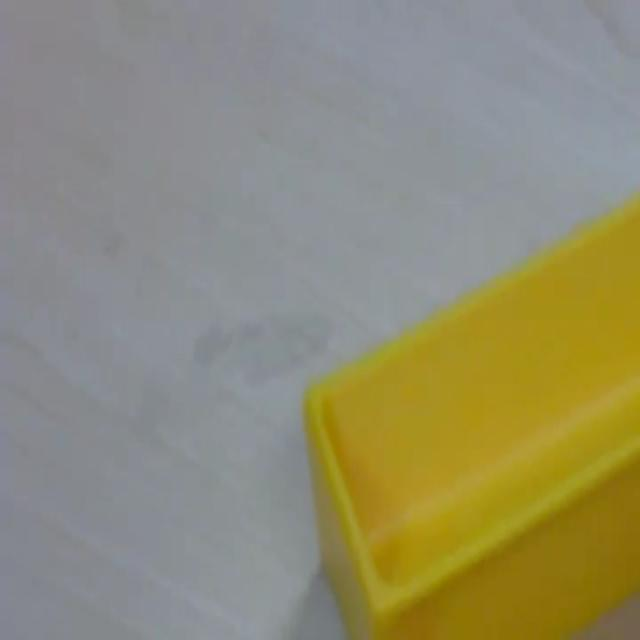yellow_block: (301, 189, 638, 636)
